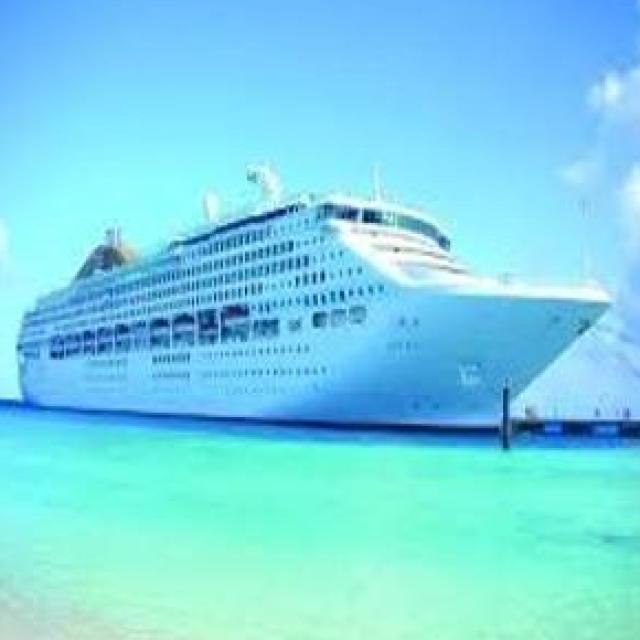passenger ship: (4, 190, 617, 417)
